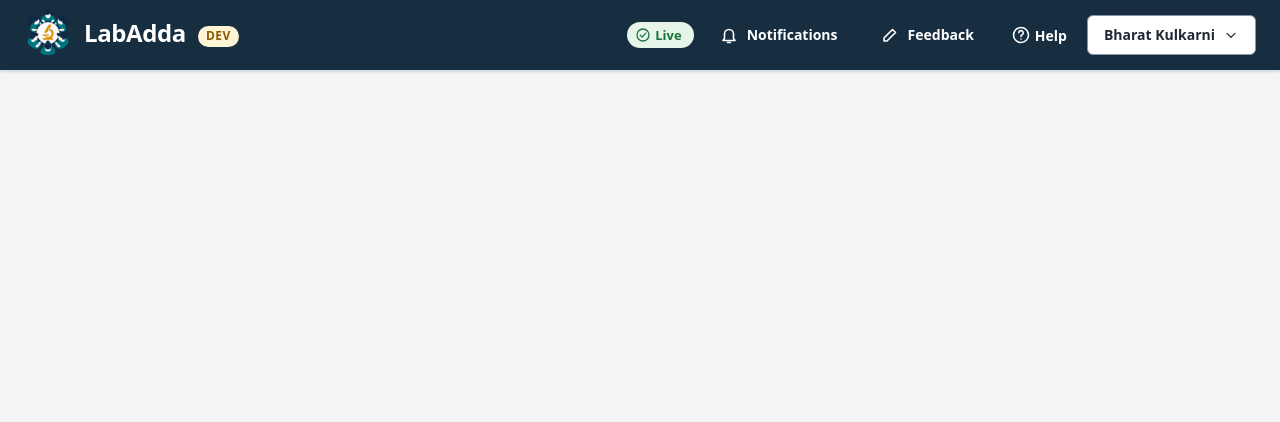
Test case: account menu theme choice › offers the three choices and marks the current one
Click the button with aria-label "Account menu for Bharat Kulkarni": coordinates (1172, 35) [1087, 15, 1256, 55]
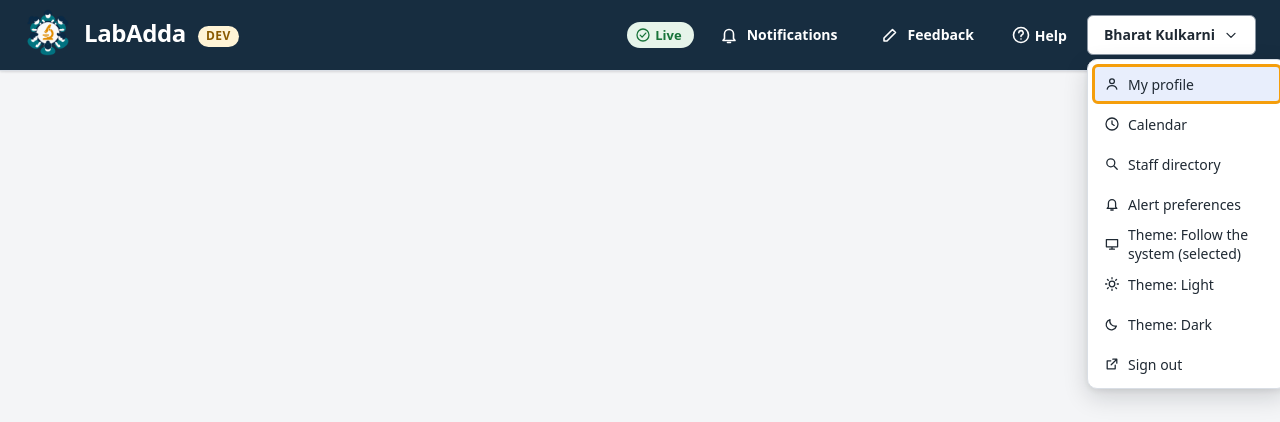
expect the menu item "Theme: Follow the system (selected)" is shown: met, box [1104, 225, 1248, 263]
expect the menu item "Theme: Light" is shown: met, box [1104, 274, 1214, 294]
expect the menu item "Theme: Dark" is shown: met, box [1104, 314, 1212, 334]
